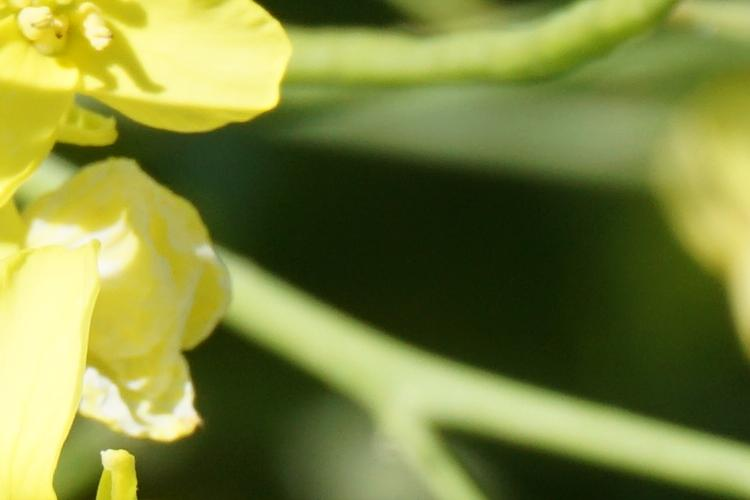yellow: (34, 170, 232, 453), (3, 1, 305, 155)
